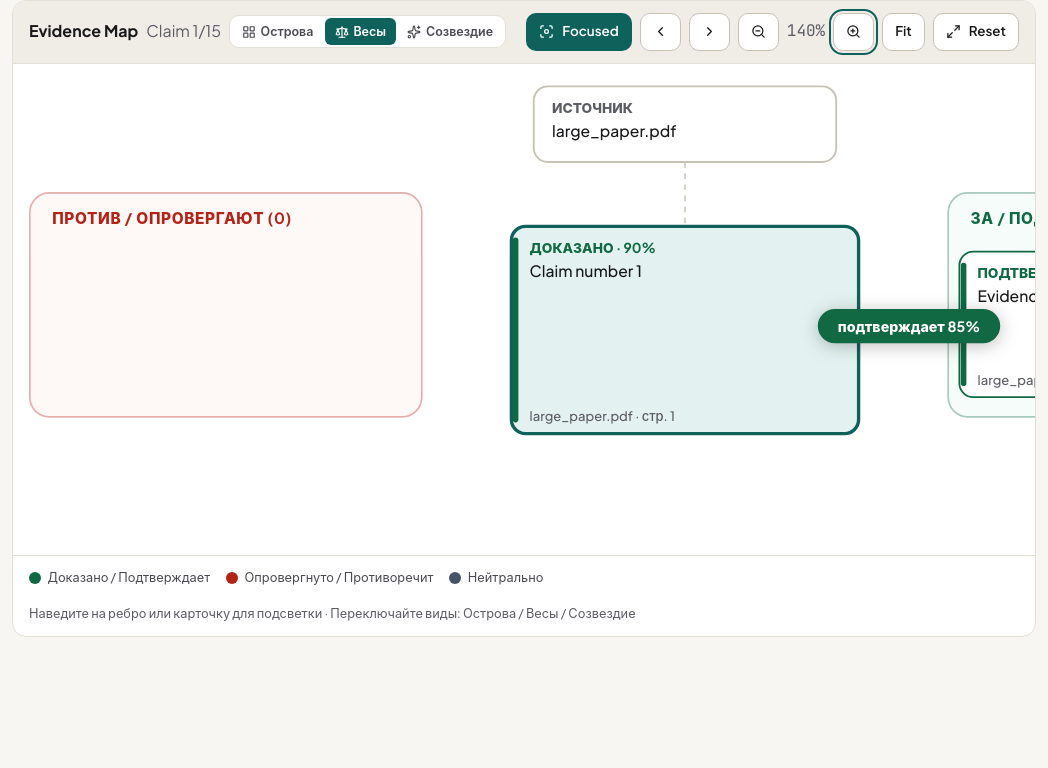
Test: EvidenceMap › auto-focuses large graphs and allows zooming up to 400%
Earlier steps of the test are not shown.
Later steps or results of the test are not shown.
Click the button named "Zoom in evidence map": [854, 32] box [833,13,874,51]
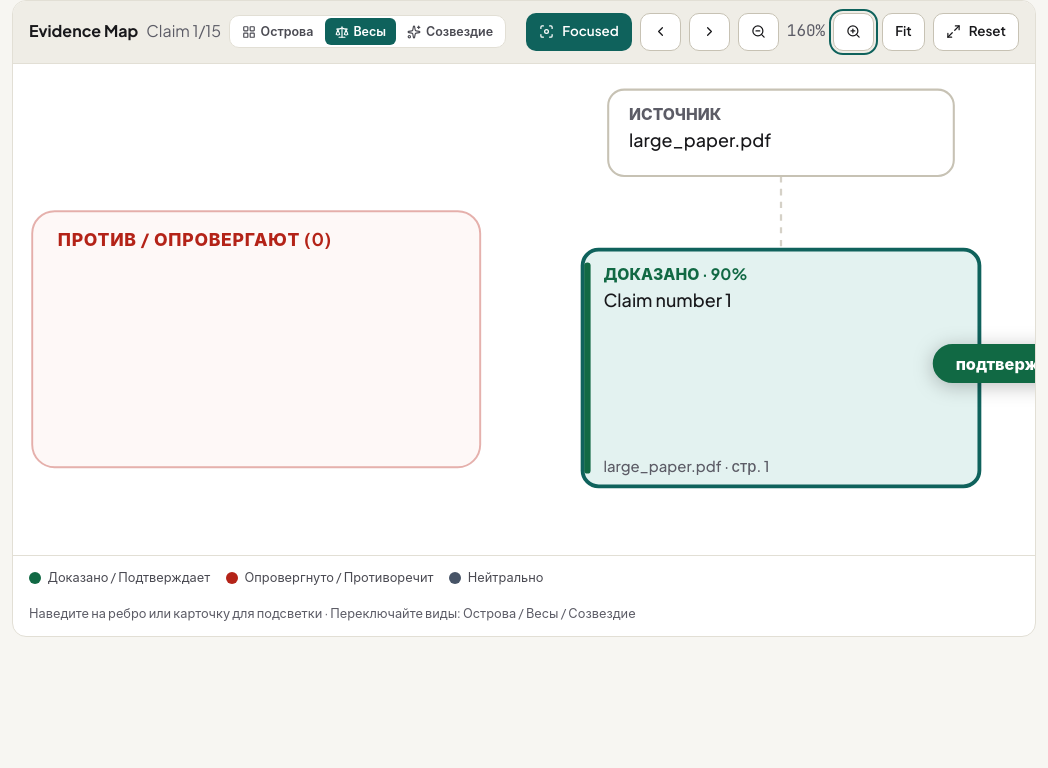
Click the button named "Zoom in evidence map": [854, 32] box [833,13,874,51]
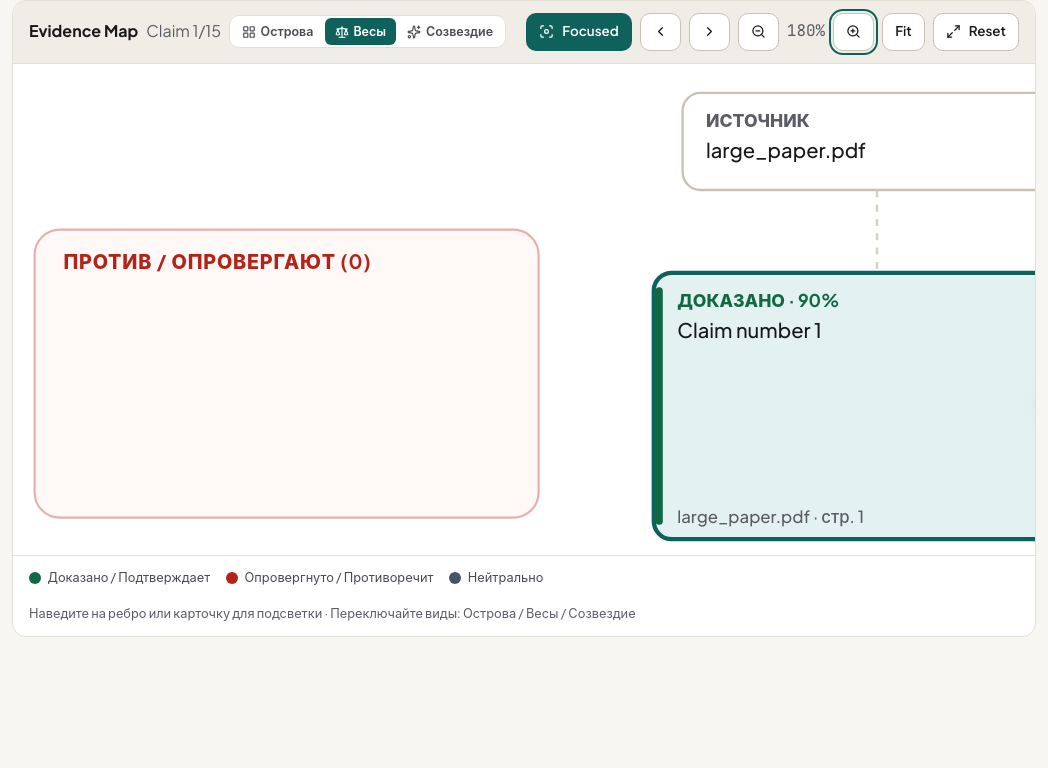
Click the button named "Zoom in evidence map": [854, 32] box [833,13,874,51]
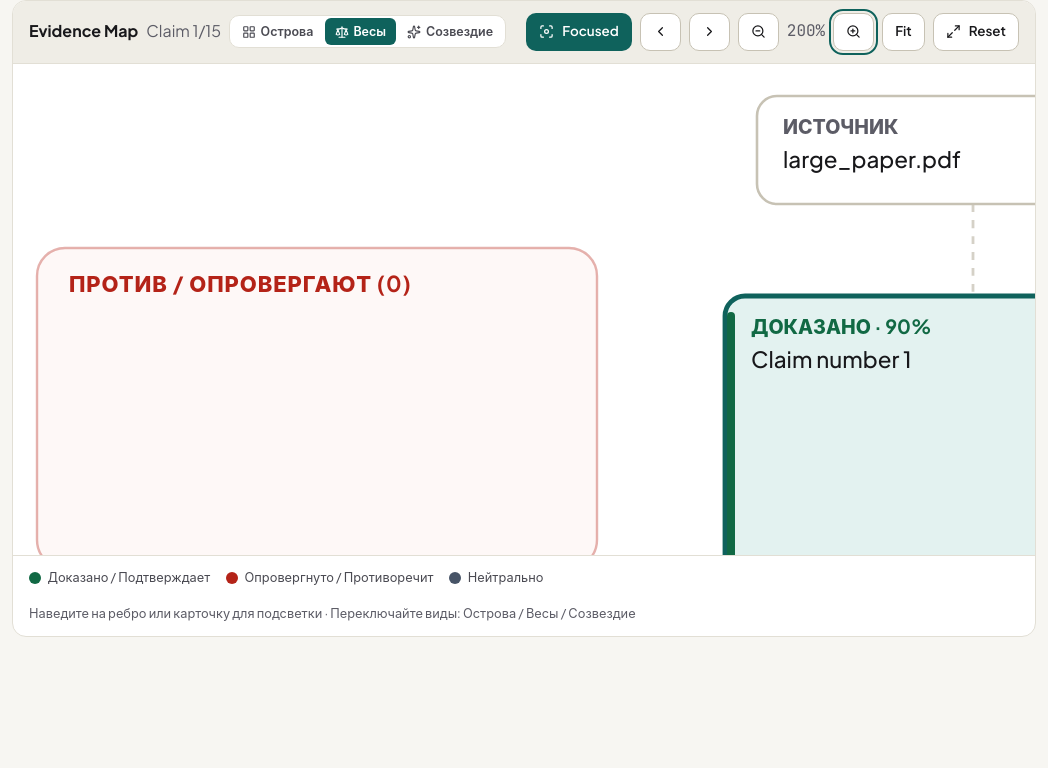
Click the button named "Zoom in evidence map": [854, 32] box [833,13,874,51]
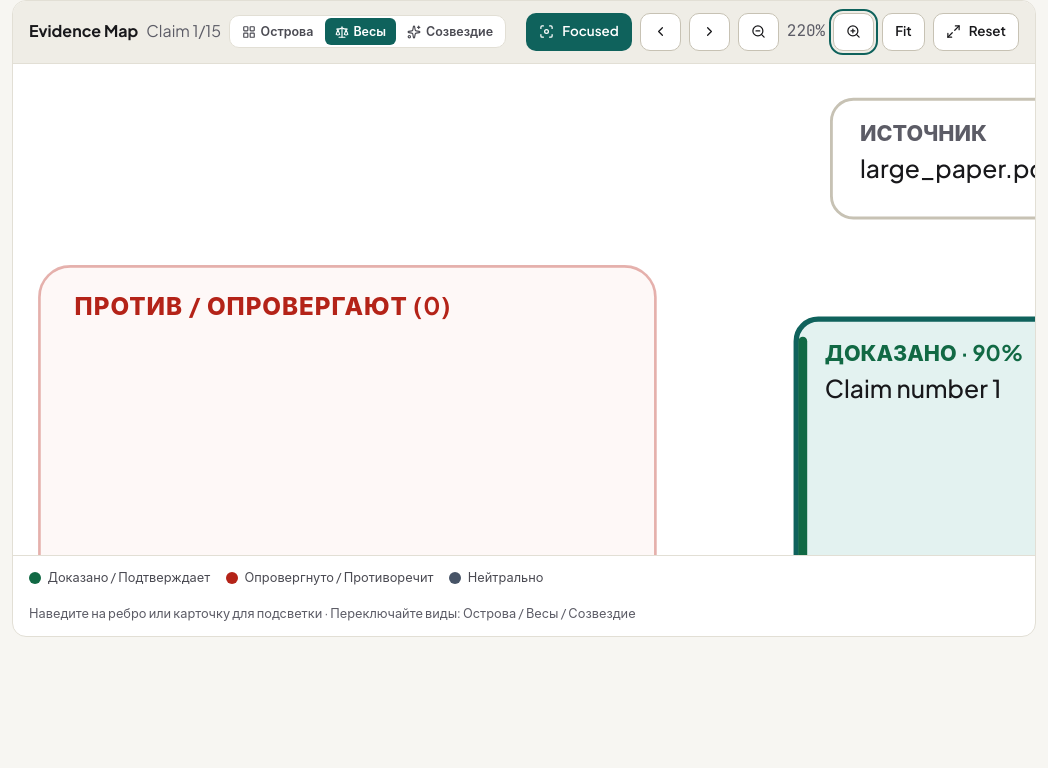
Click the button named "Zoom in evidence map": [854, 32] box [833,13,874,51]
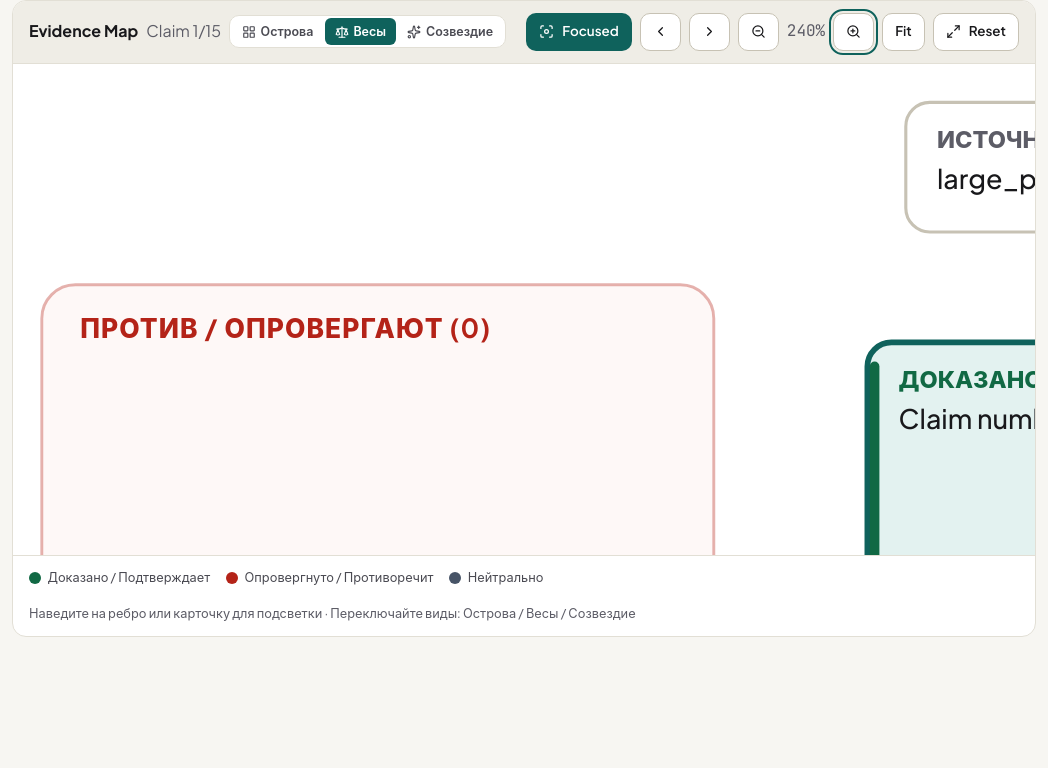
Click the button named "Zoom in evidence map": [854, 32] box [833,13,874,51]
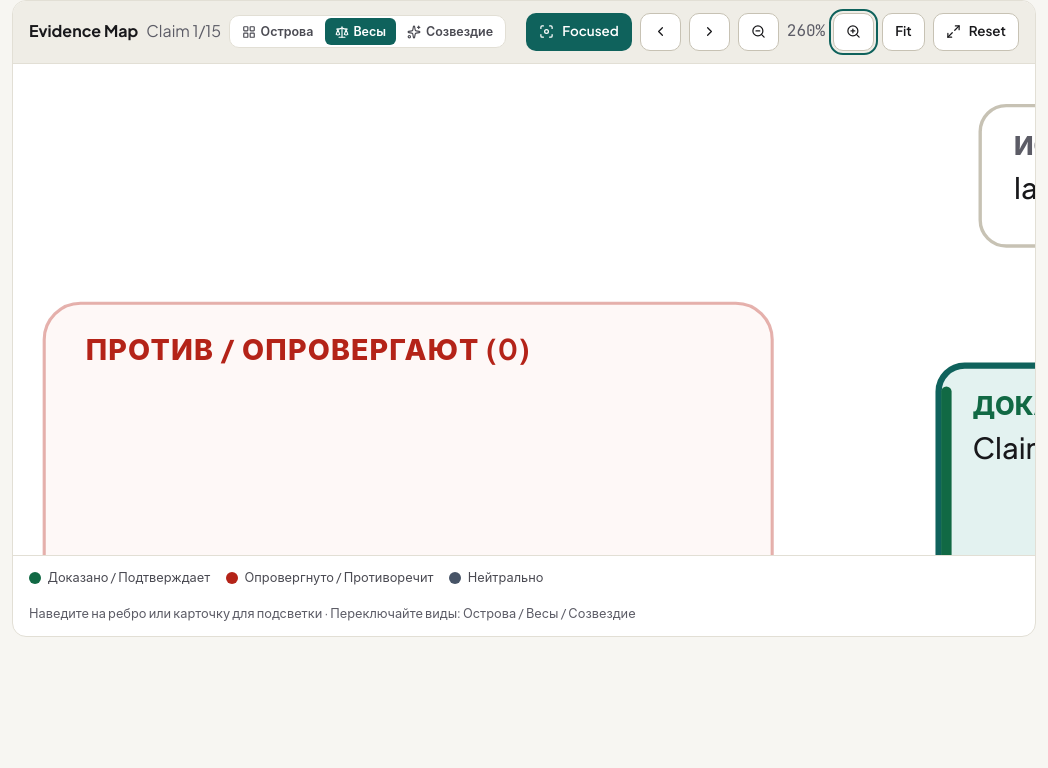
Result: the text "260%" is shown at [787,19,825,44]
